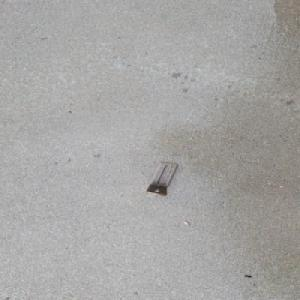MetalPart: (146, 161, 179, 196)
